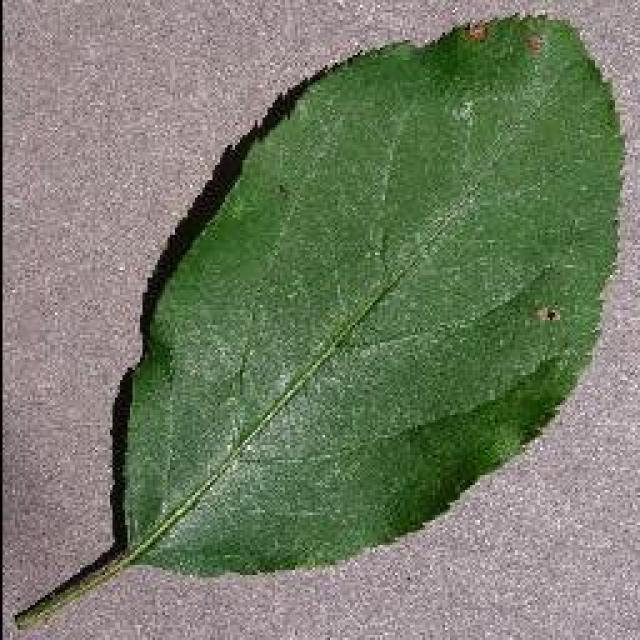Black_rot: (10, 10, 625, 632)
